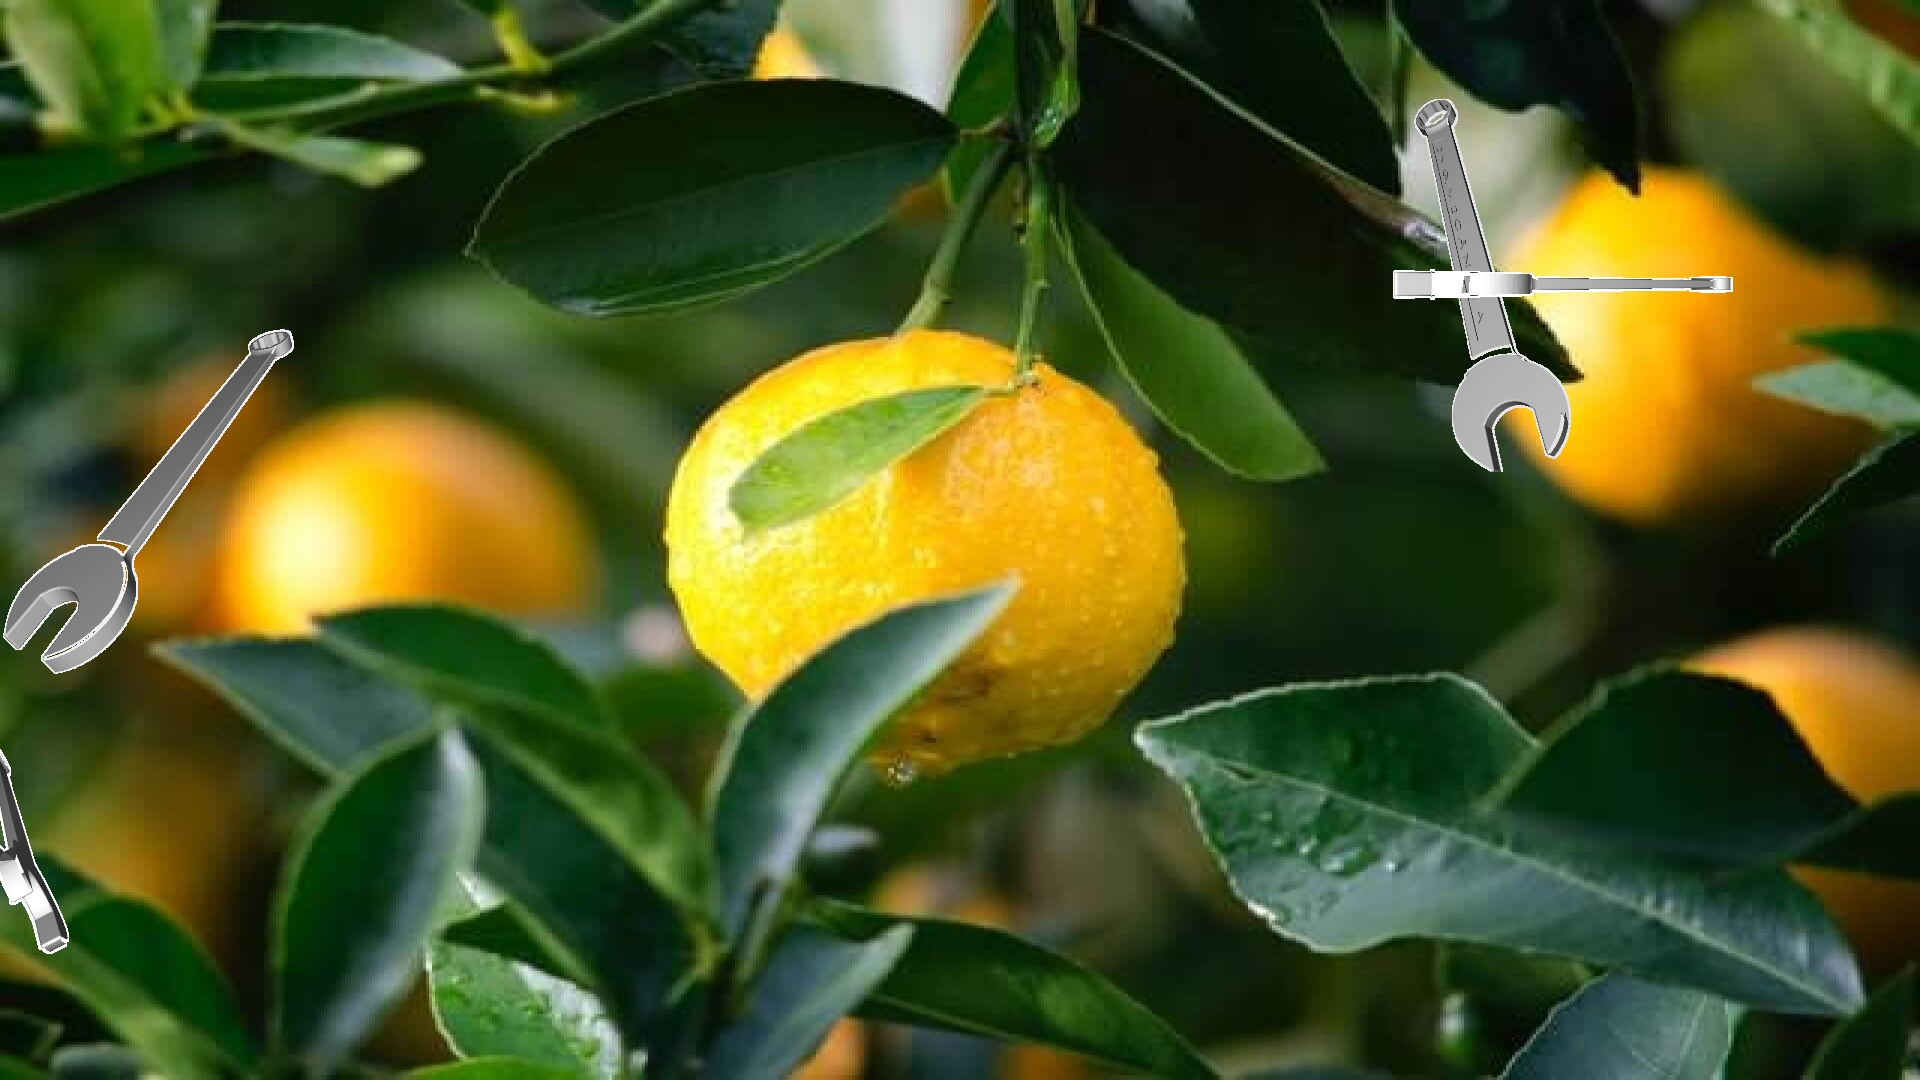Mixed Key: (3, 328, 293, 673), (1414, 99, 1571, 471), (0, 749, 69, 953), (1393, 269, 1731, 299)
